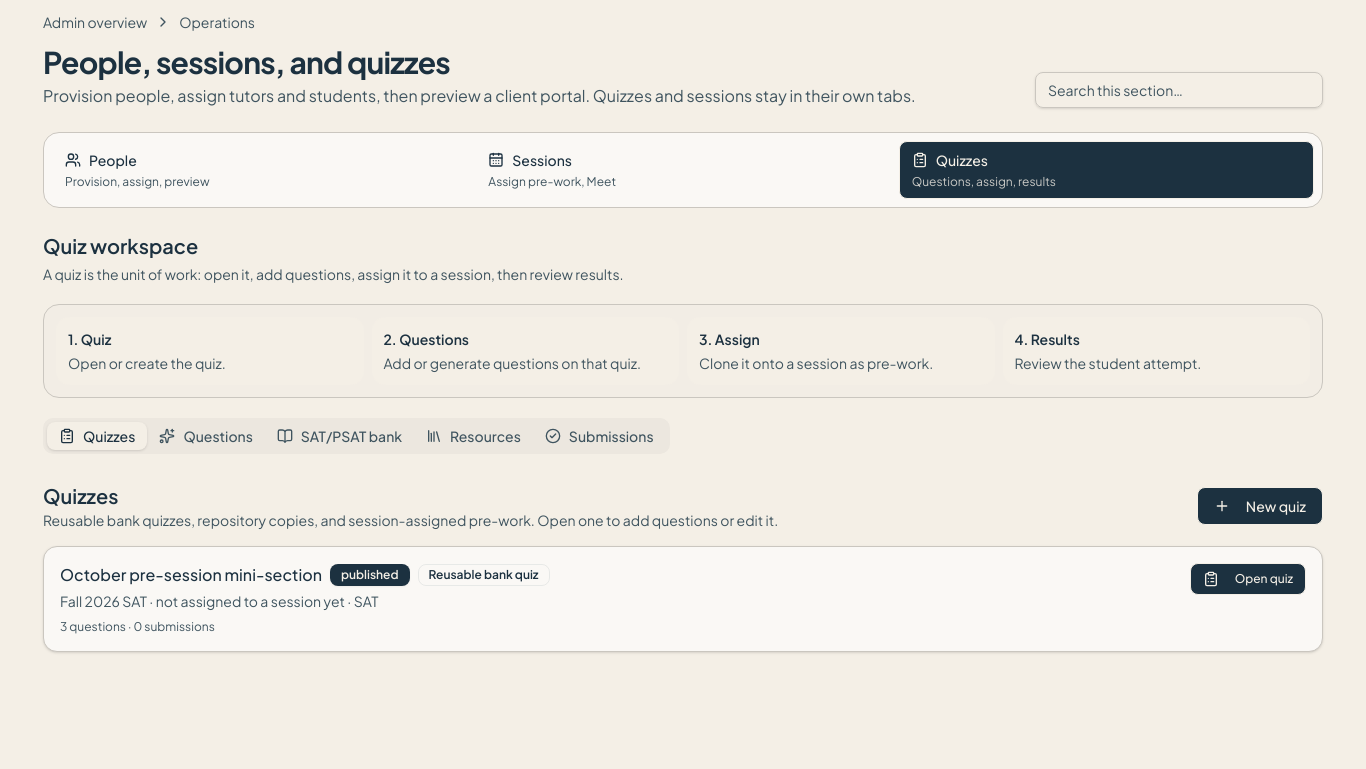
it: admin curriculum URL sync › People and Sessions top tabs write the URL and show the matching panel
This screenshot has width=1366, height=769.
Expected: the element with test id "admin-section-curriculum" is shown, [43,232,1323,652]
Click the link with test id "admin-section-link-people" at (137,170), box [65,151,210,189]
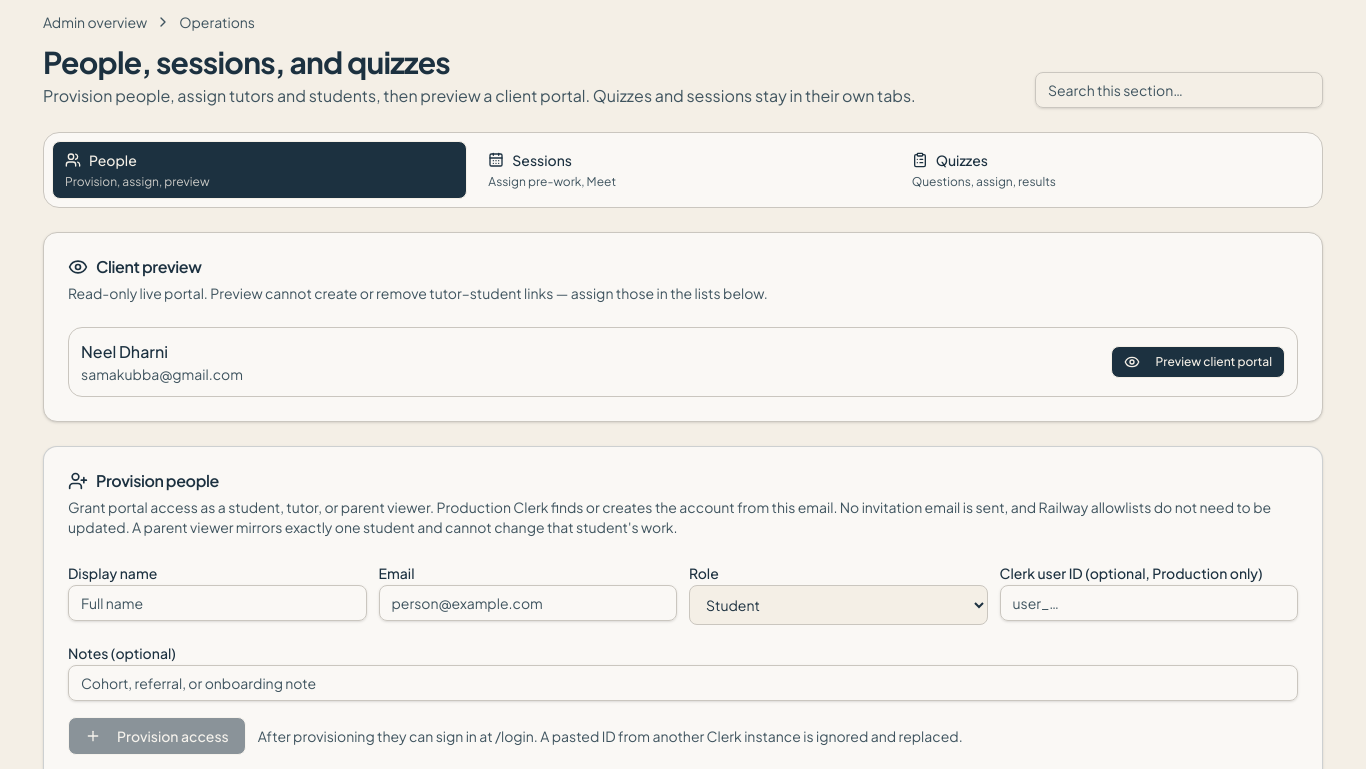
Result: the element with test id "admin-section-curriculum" is gone
Click the link with test id "admin-section-link-sessions" at (552,170), box [488,151,616,189]
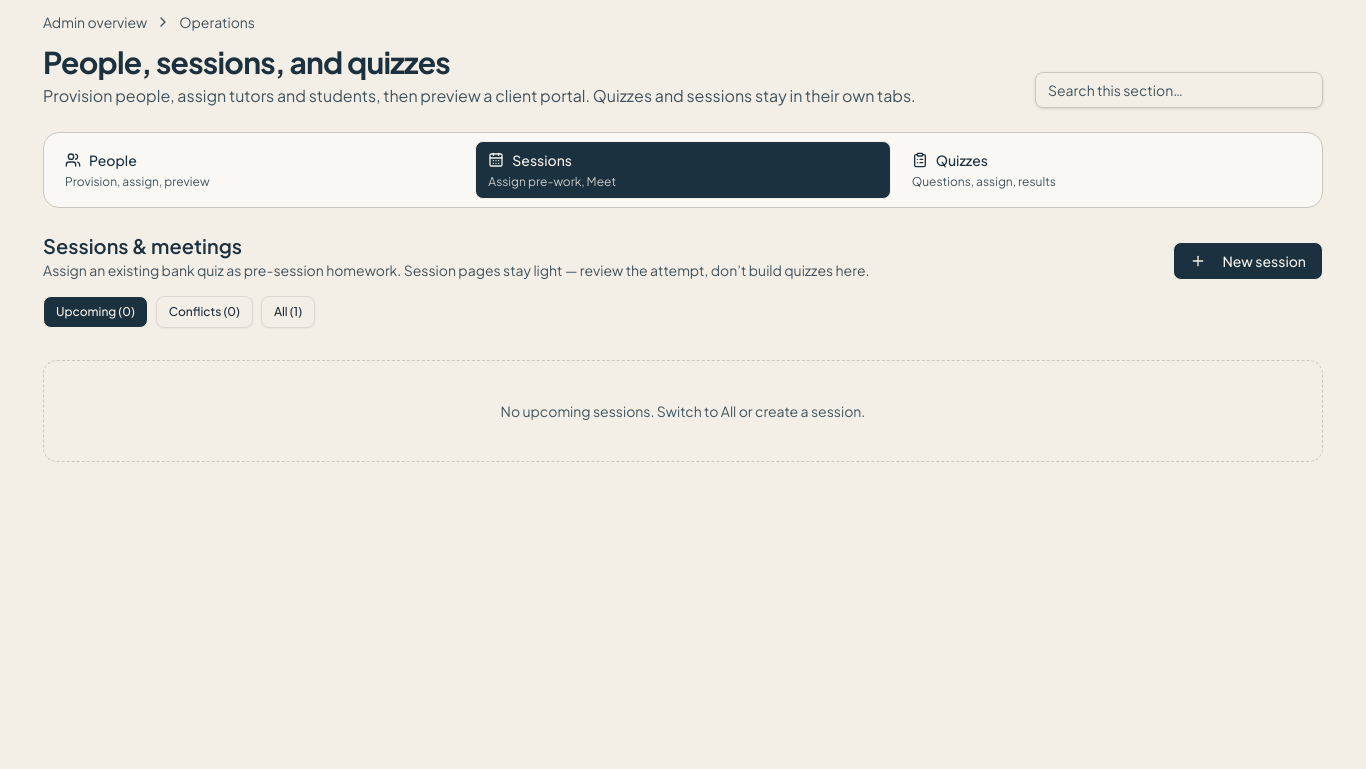
Result: the element with test id "admin-section-sessions" is shown at [43,232,1323,462]
